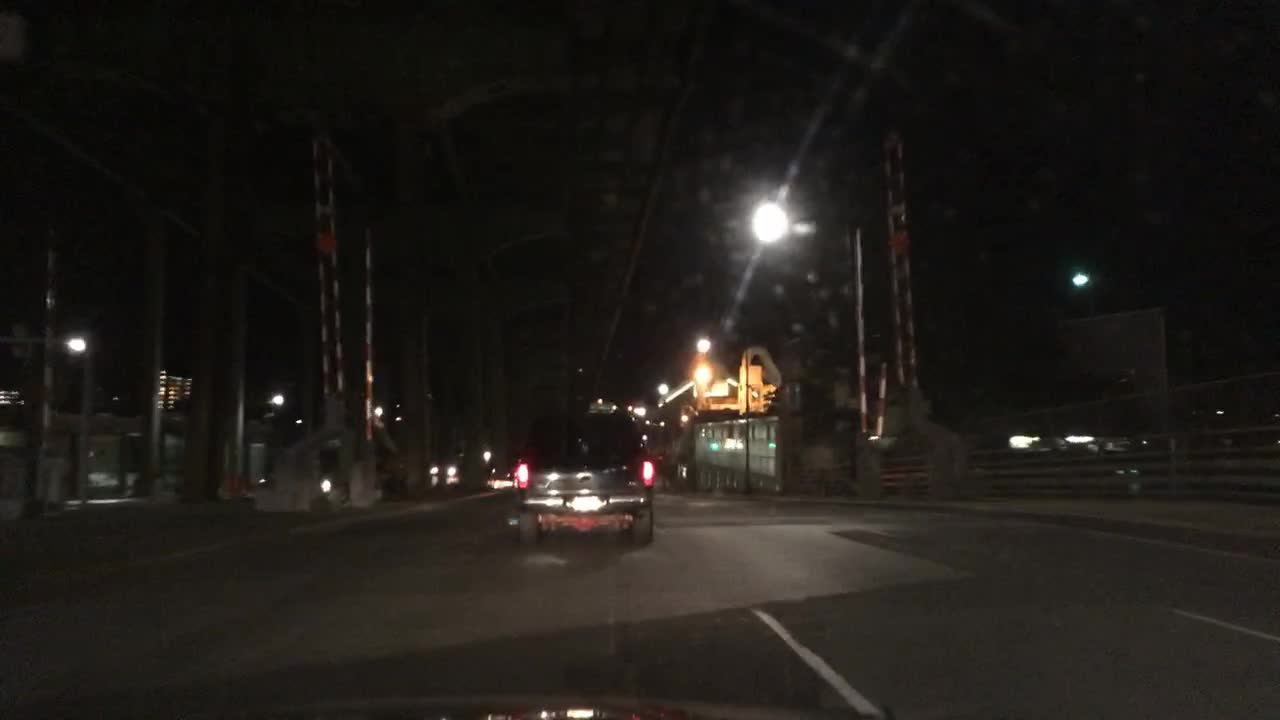car: (509, 406, 658, 549), (1002, 394, 1168, 500), (258, 443, 388, 503), (429, 444, 494, 490)
